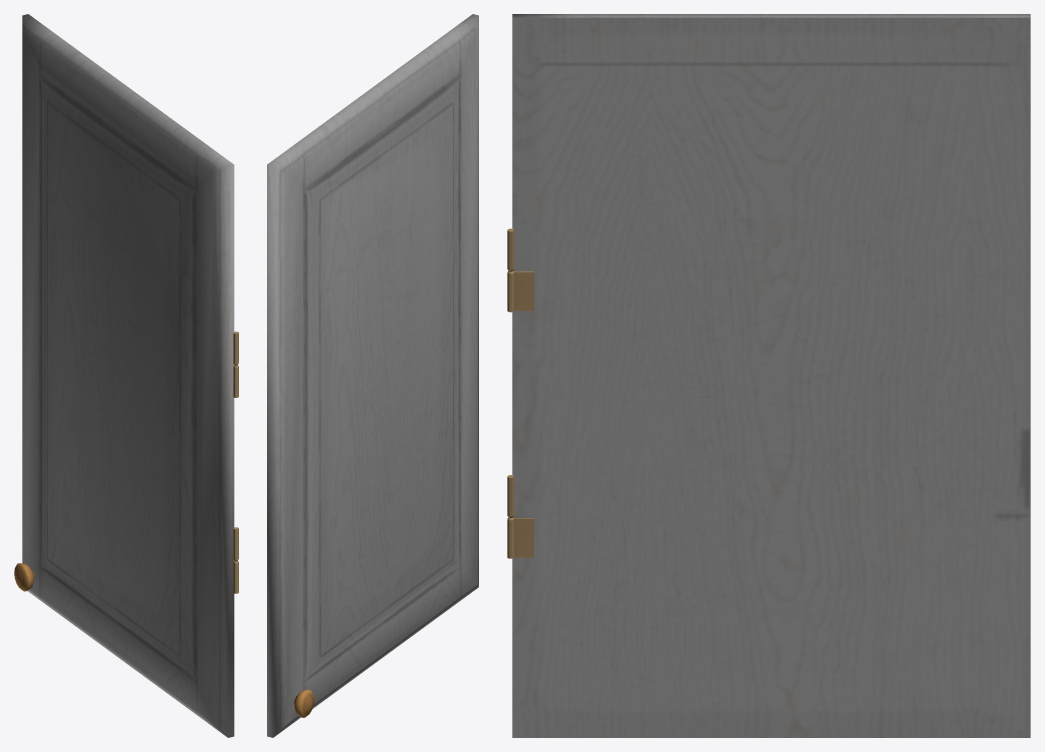
Rendered from SM_KitchenSet_B1_DoorA4.fbx.
3 renders of one model, left to right at view 1: azimuth 30°, elevation 25°; view 2: azimuth 150°, elevation 25°; view 3: azimuth 270°, elevation 25°, orthographic. The views are drawn at different scales.
Visible parts, largest first — view 1: SM_KitchenSet_B1_DoorA4; view 2: SM_KitchenSet_B1_DoorA4; view 3: SM_KitchenSet_B1_DoorA4.
Boxes of the visible parts, box(x1,y1,x2,y2) form: SM_KitchenSet_B1_DoorA4: box(14, 14, 238, 737); SM_KitchenSet_B1_DoorA4: box(267, 14, 478, 737); SM_KitchenSet_B1_DoorA4: box(507, 14, 1030, 737).
Bounding box in the file's own units: 4.8 × 55.7 × 84.63.
2 materials, 2 textured.
